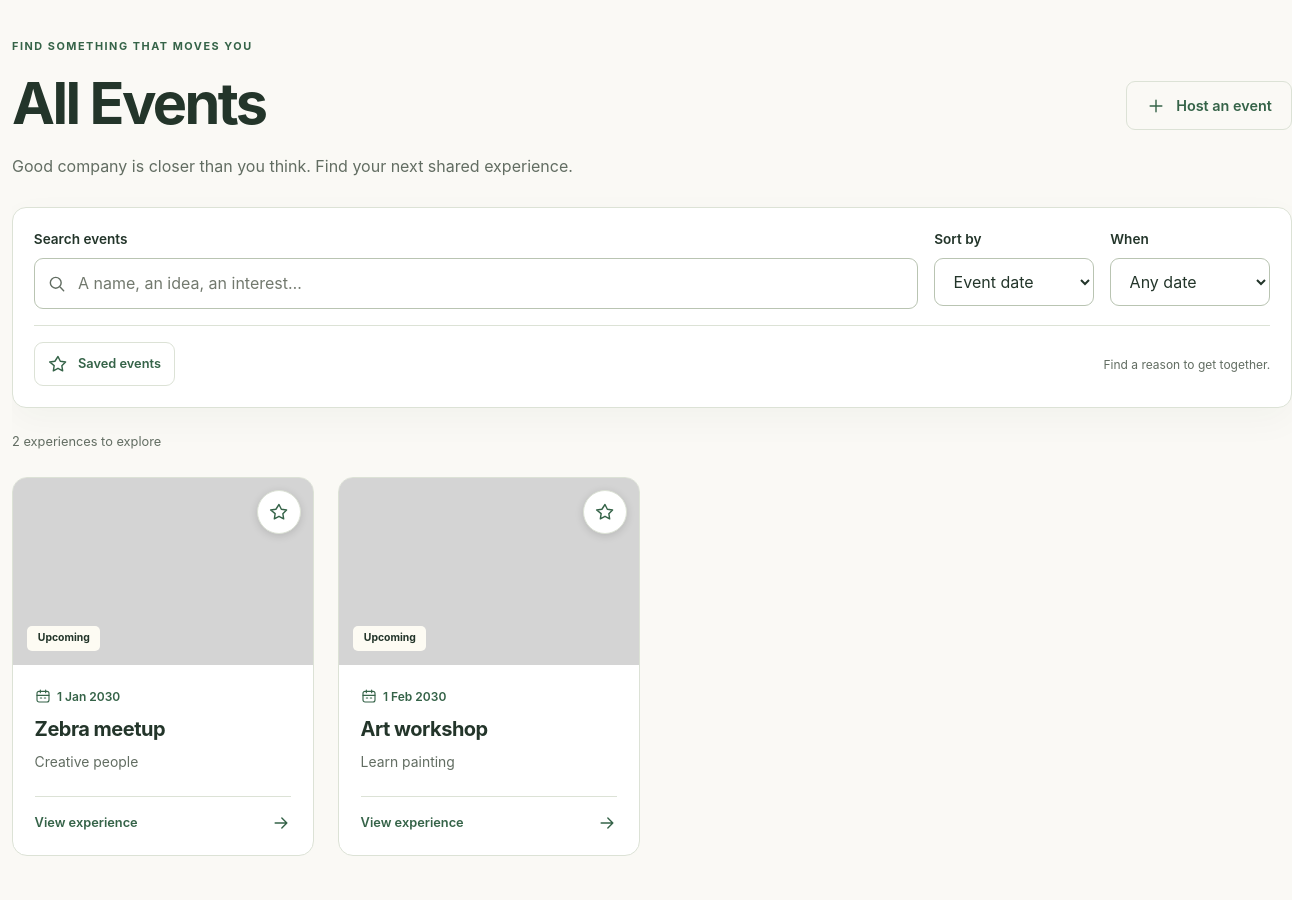
reports unavailable storage without claiming a favorite was saved
Click the button named "Save Art workshop to favorites" at coordinates (605, 512), box x1=583 y1=490 x2=627 y2=534
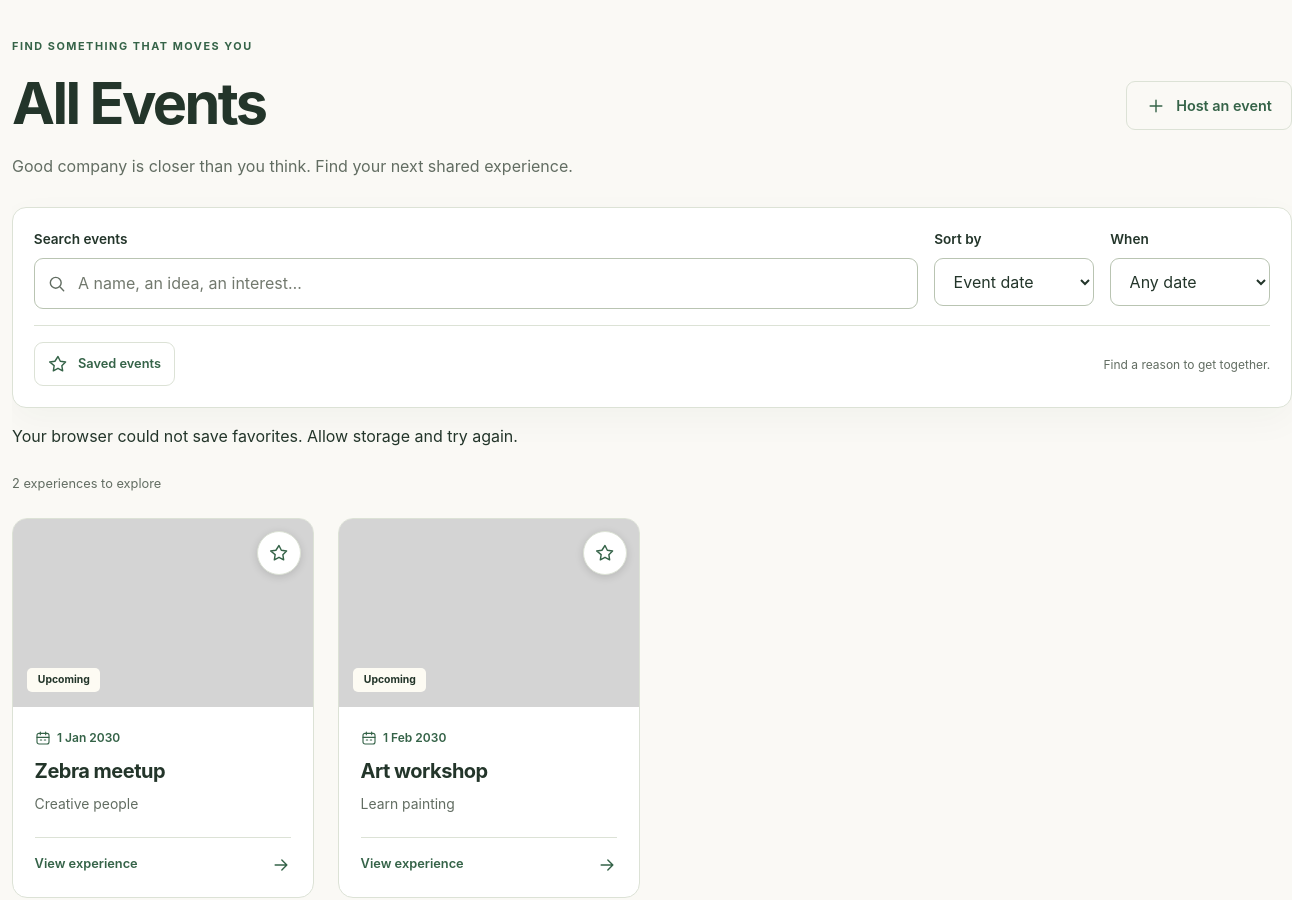
Result: the message "Your browser could not save favorites. Allow storage and try again." is shown at x1=12 y1=426 x2=518 y2=446
